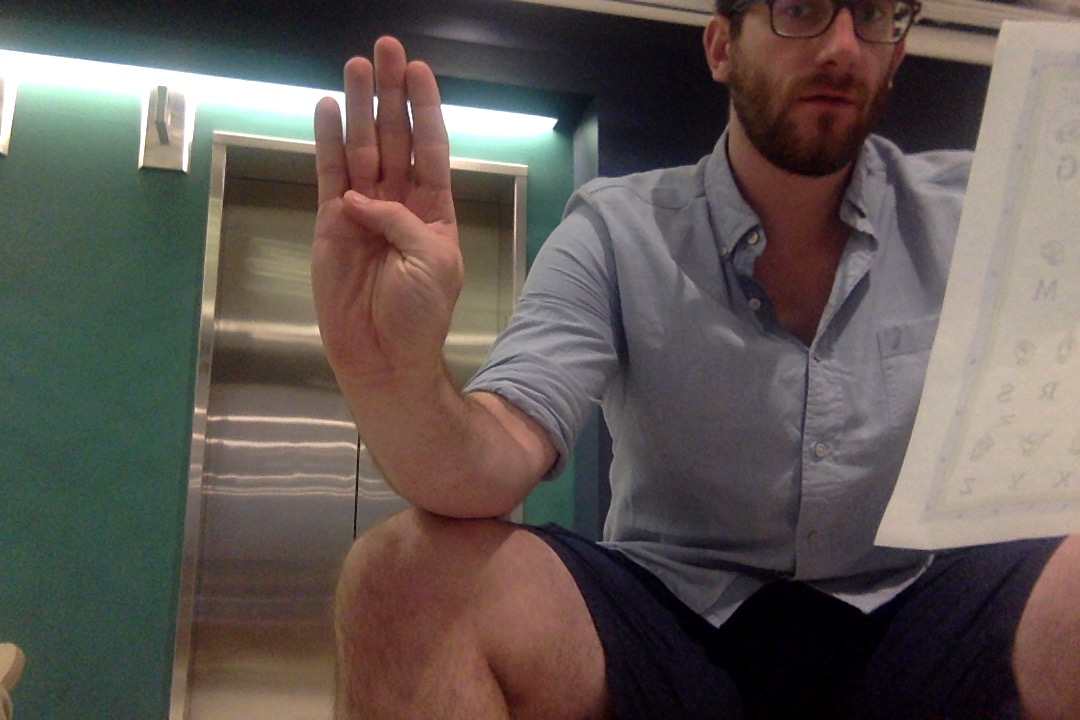b: (306, 34, 469, 367)
